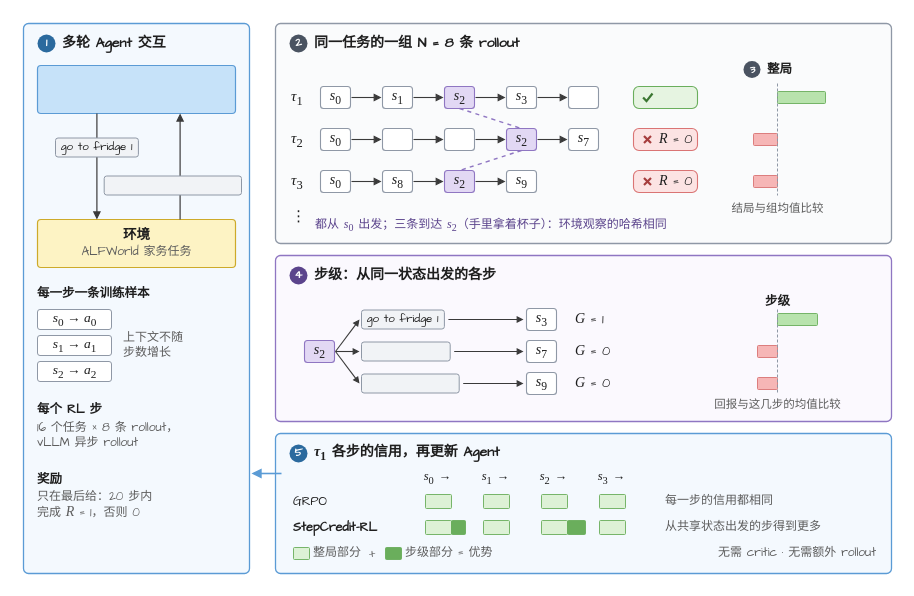
The diagram is 914 pixels wide and 596 high, and some of its shapes have lost their labels. The shapes that lost their labels are listed below. From the top down, each one's centre as x and y in pixels, then its label:
At [136,89]: "LLM Agent Qwen3-4B".
At [583,97]: "s 4".
At [665,97]: "R = 1".
At [397,139]: "s 5".
At [459,139]: "s 6".
At [172,185]: "“You arrive at fridge 1.”".
At [405,351]: "go to cabinet 1".
At [409,383]: "go to sinkbasin 1".
